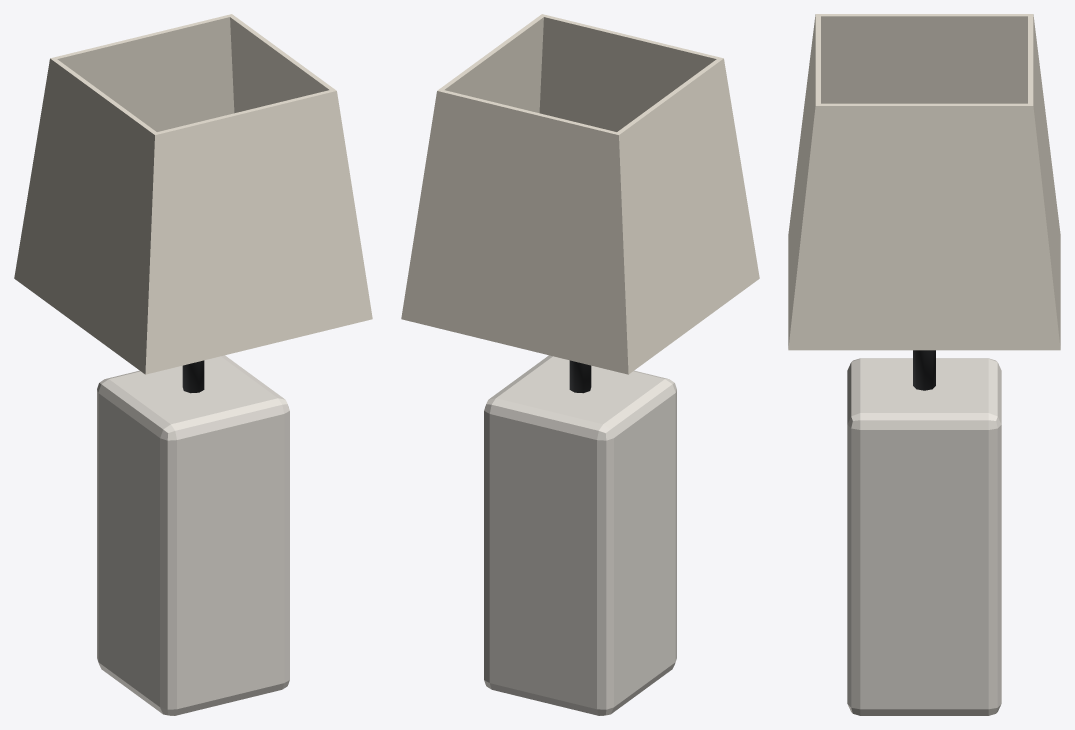
File: lampTableSquare.glb
3 renders of one model, left to right at view 1: azimuth 30°, elevation 25°; view 2: azimuth 150°, elevation 25°; view 3: azimuth 270°, elevation 25°, orthographic. The views are drawn at different scales.
Visible parts, largest first — view 1: lampTableSquare; view 2: lampTableSquare; view 3: lampTableSquare.
Part boxes in pixels (x1,y1,x2,y2): lampTableSquare: (14,14,372,715); lampTableSquare: (401,14,759,715); lampTableSquare: (788,14,1060,715).
Size of the model in its own units: 0.2121 by 0.54 by 0.2121.
